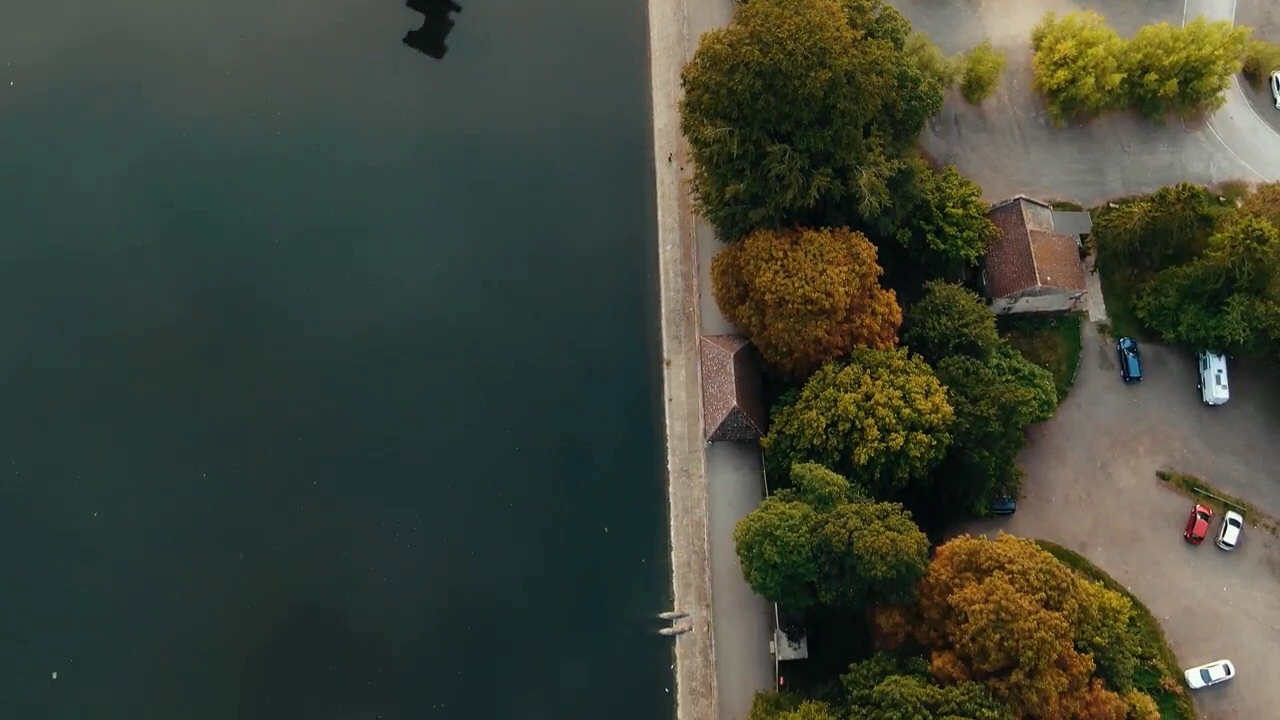araba: (1183, 655, 1237, 691), (1115, 336, 1149, 387), (1215, 506, 1245, 556), (1185, 503, 1215, 543)
otobus: (1194, 347, 1233, 410)
